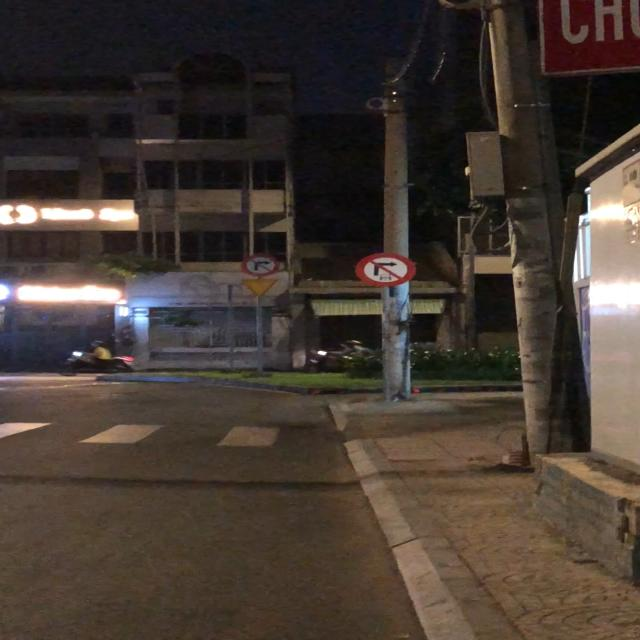Bien bao cam re phai: (240, 253, 281, 275)
Bien bao cam xe o to re phai: (353, 253, 418, 288)
Bien bao giao nhau voi duong uu tien: (238, 277, 280, 297)
